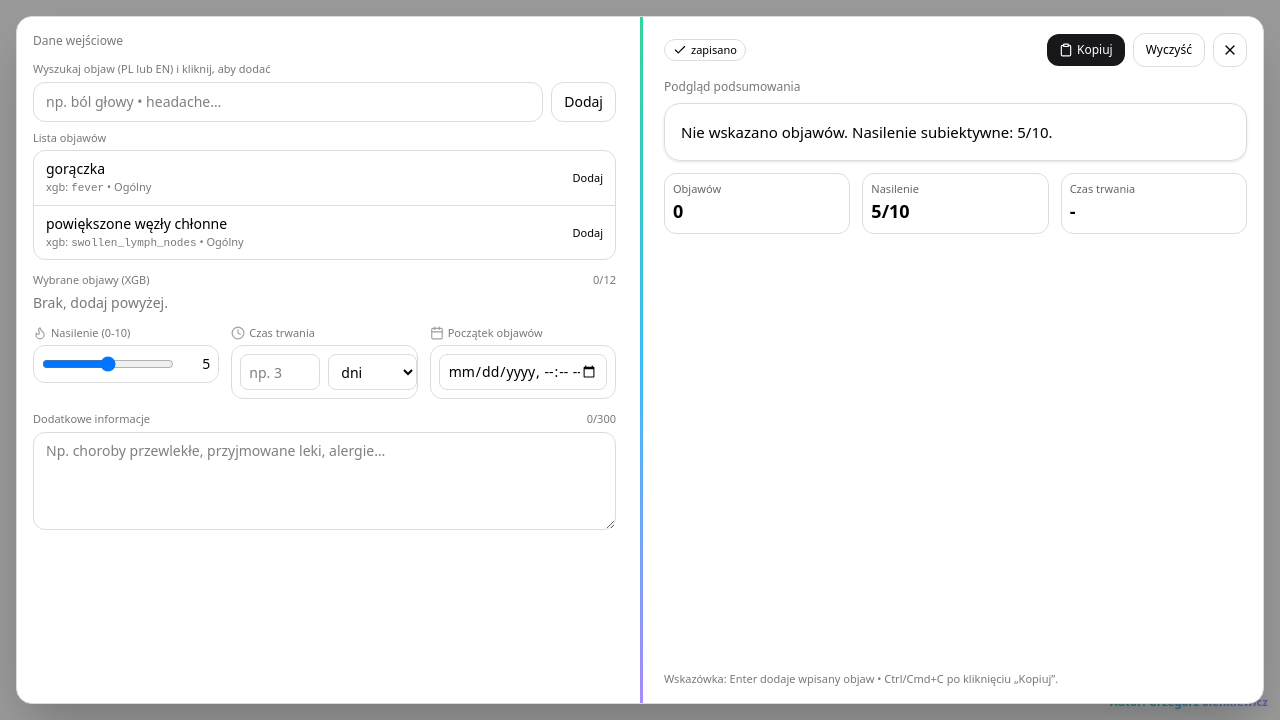
PrepOverlay: adding symptoms with Enter › text without a match is kept as words, ł no longer disappears
Check: the list item titled "Dodaj: gorączka" is shown, box x1=34 y1=151 x2=615 y2=206
Type "ból łokcia" into the field with placeholder "np. ból głowy • headache…".
click(288, 102); type("ból łokcia")  # box x1=33 y1=82 x2=543 y2=122
Then press Enter
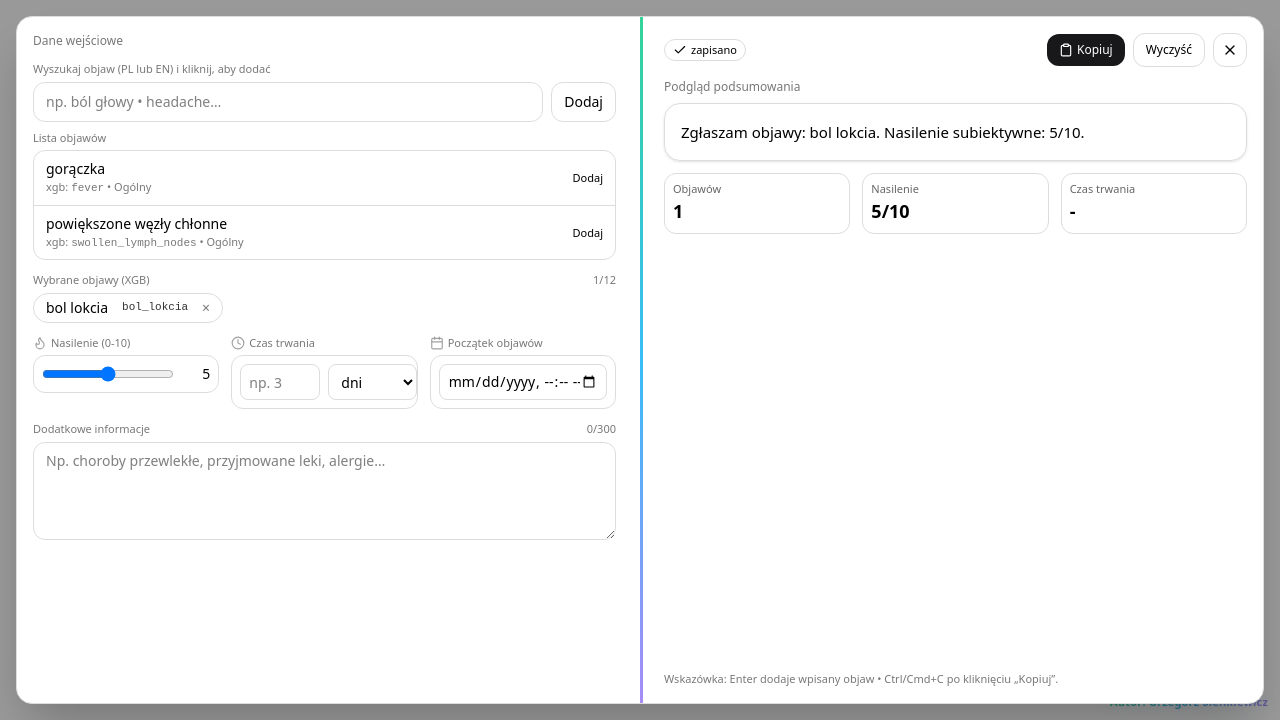
Check: the text "Zgłaszam objawy: bol lokcia. Nasilenie subiektywne: 5/10." is shown, box x1=664 y1=103 x2=1247 y2=161
